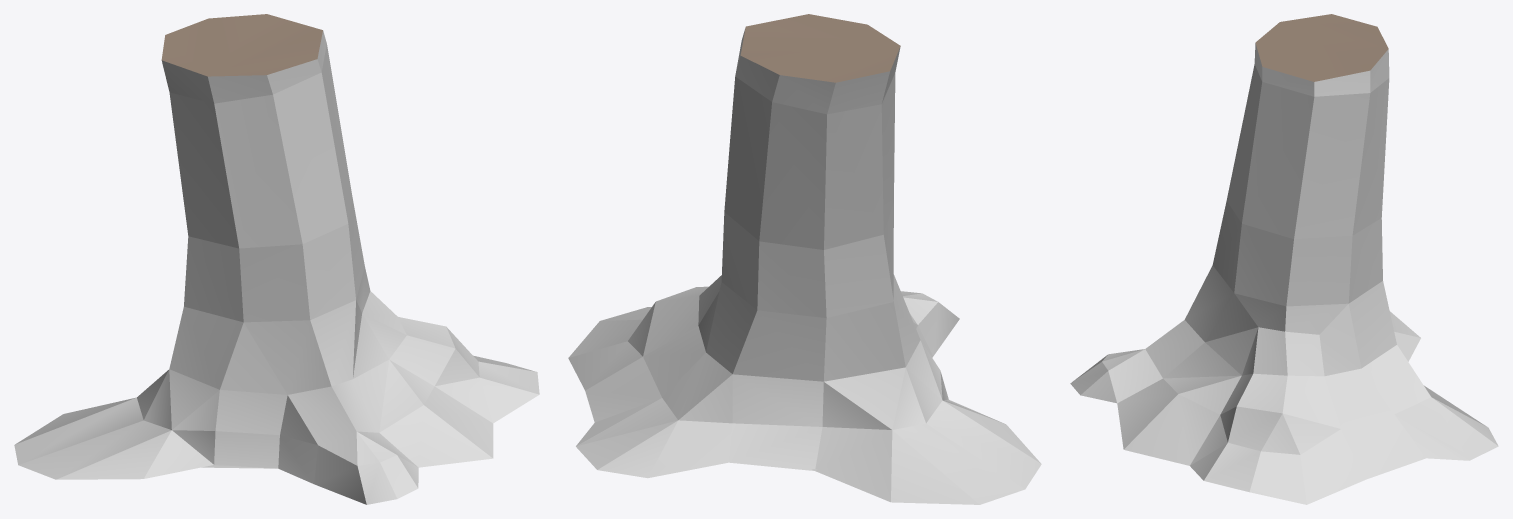
Rendered from stump.fbx.
3 views of the same model, side by side, from view 1: azimuth 30°, elevation 25°; view 2: azimuth 150°, elevation 25°; view 3: azimuth 270°, elevation 25° (orthographic). The views are drawn at different scales.
Parts seen in each view (by area): view 1: stump; view 2: stump; view 3: stump.
Boxes of the visible parts, box(x1,y1,x2,y2) form: stump: box(14, 14, 539, 504); stump: box(568, 14, 1041, 504); stump: box(1070, 14, 1498, 504).
Size of the model in its own units: 143 by 123 by 110.
